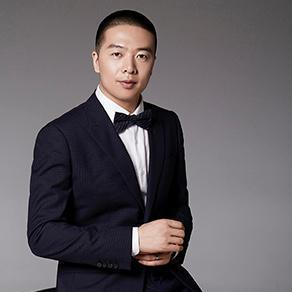unmask: (100, 26, 156, 97)
